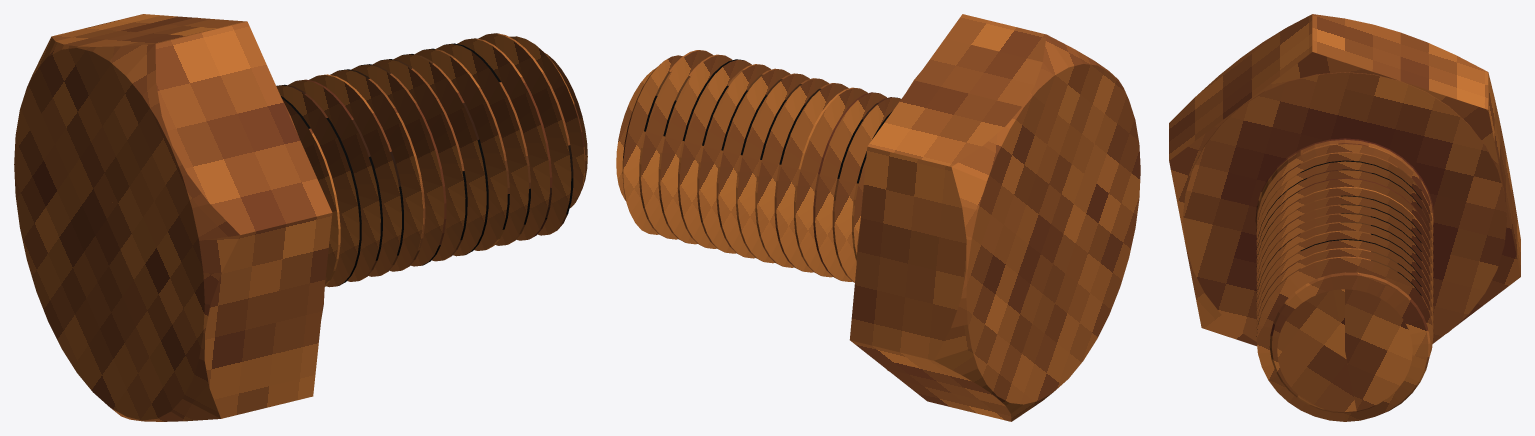
File: Bolt_017.obj
The picture shows the model from 3 angles, left to right: view 1: azimuth 30°, elevation 25°; view 2: azimuth 150°, elevation 25°; view 3: azimuth 270°, elevation 25°; orthographic projection. The views are drawn at different scales.
Visible parts, largest first — view 1: Bolt.017; view 2: Bolt.017; view 3: Bolt.017.
Part boxes in pixels (x1=…): Bolt.017: x1=14, y1=14, x2=587, y2=421; Bolt.017: x1=616, y1=14, x2=1140, y2=421; Bolt.017: x1=1169, y1=14, x2=1520, y2=421.
Size of the model in its own units: 0.1002 by 0.0864 by 0.0825.
Materials: 1 (1 with a texture image).
